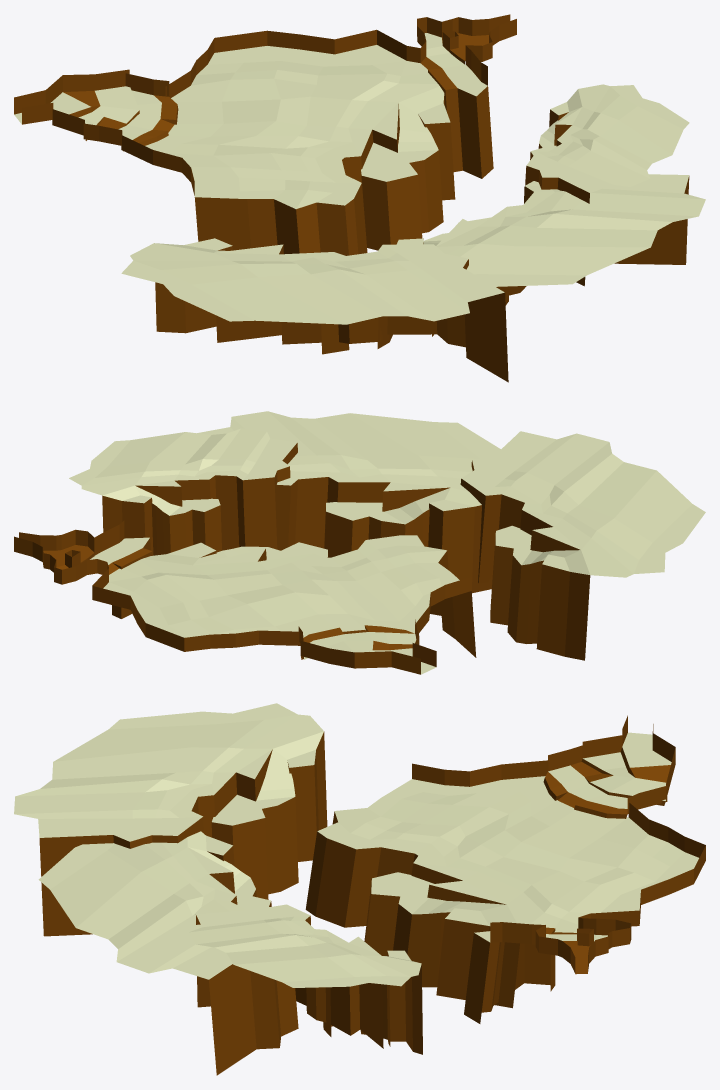
The model's file is Desert Hub Plan.fbx.
3 views of the same model, one above another, from view 1: azimuth 30°, elevation 25°; view 2: azimuth 150°, elevation 25°; view 3: azimuth 270°, elevation 25° (orthographic). The views are drawn at different scales.
Visible parts, largest first — view 1: Sand Hub Whitebox, Sand Hub Background; view 2: Sand Hub Background, Sand Hub Whitebox; view 3: Sand Hub Background, Sand Hub Whitebox.
Part boxes in pixels (left/top/right/bottom): Sand Hub Whitebox: left=14, top=14, right=516, bottom=255; Sand Hub Background: left=121, top=84, right=705, bottom=382; Sand Hub Background: left=69, top=411, right=705, bottom=660; Sand Hub Whitebox: left=14, top=520, right=476, bottom=674; Sand Hub Background: left=14, top=703, right=422, bottom=1075; Sand Hub Whitebox: left=305, top=715, right=705, bottom=1023.
Bounding box in the file's own units: 70868 × 15594 × 70130.
